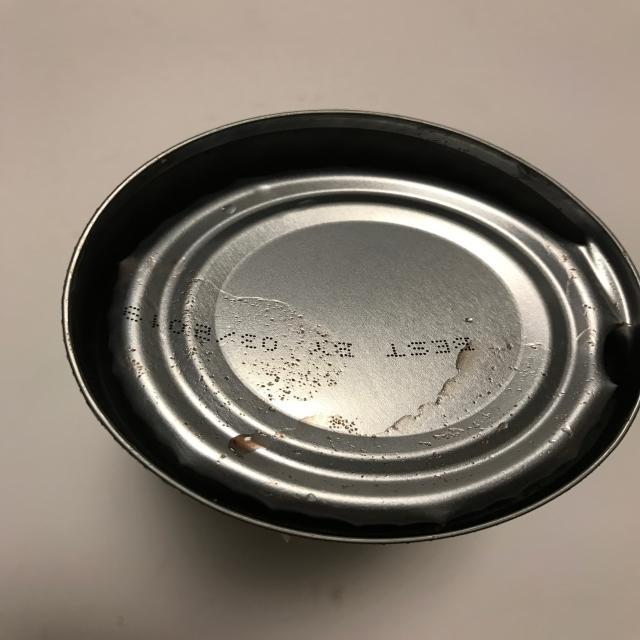metal: (60, 109, 640, 548)
